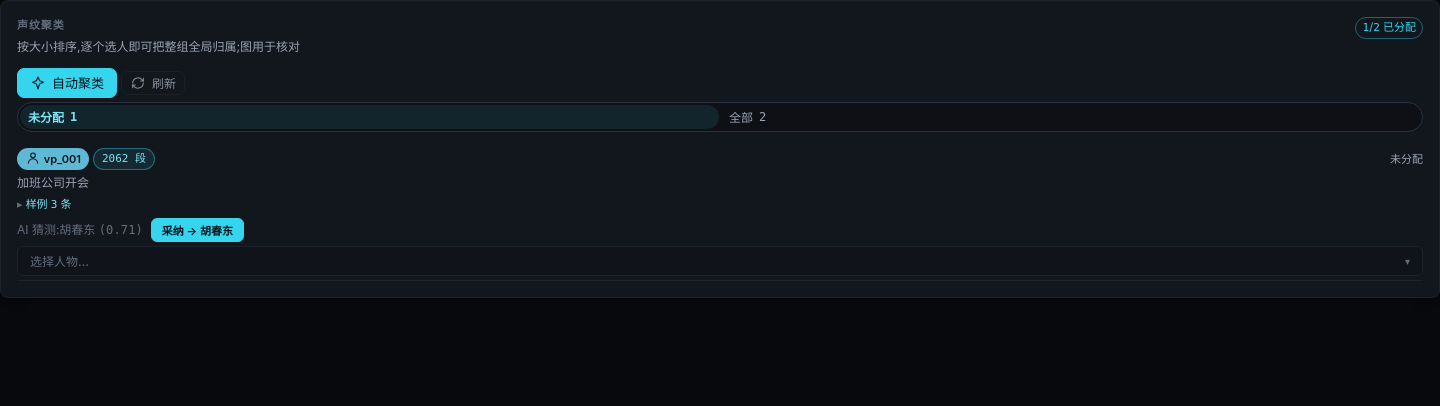
Test case: ClusterListPanel › lists global clusters largest-first with sample, size and an assigned badge
The image size is (1440, 406).
Expected: the text "vp_001" is shown, x1=17 y1=148 x2=89 y2=170
Expected: the text "2062 段" is shown, x1=93 y1=148 x2=155 y2=170
Click the button "全部 2". click: (741, 118)
box: x1=721 y1=104 x2=1420 y2=128
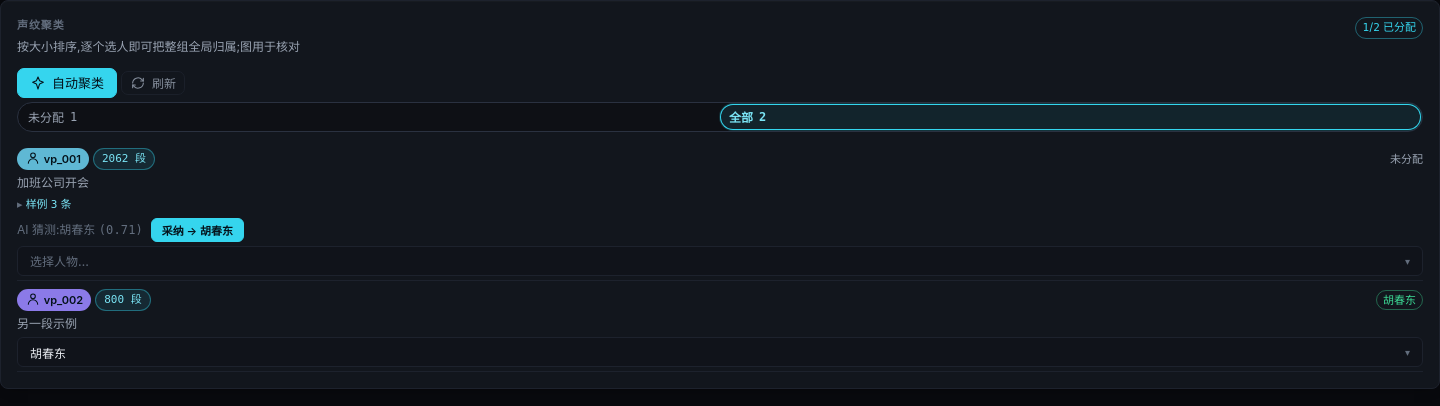
Now the dropdown named "分配 vp_002" shows "胡春东", box x1=17 y1=337 x2=1423 y2=367
